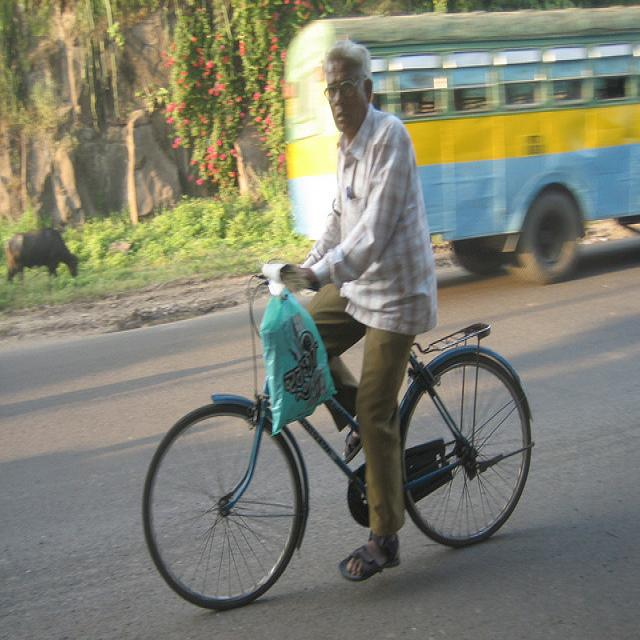Vehicle: (279, 7, 640, 279)
